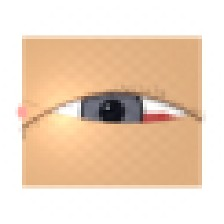hemorrhage_spot: (110, 88, 193, 154)
